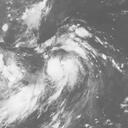cyclone: (47, 54, 80, 86)
